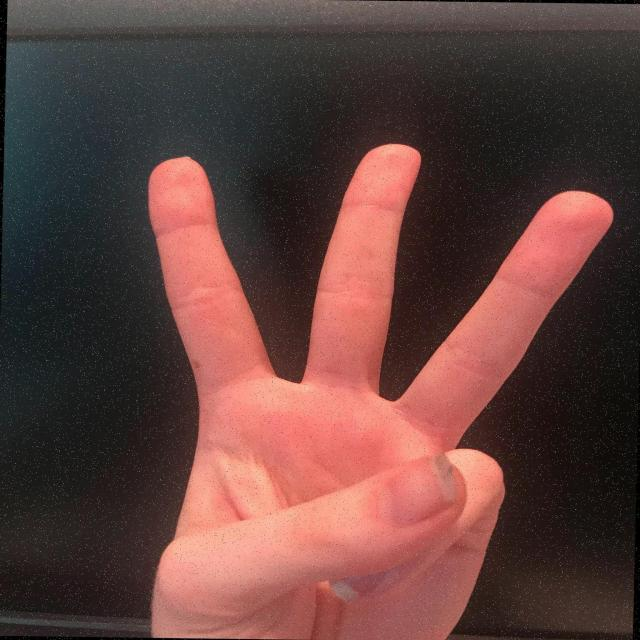W: (129, 135, 619, 640)
